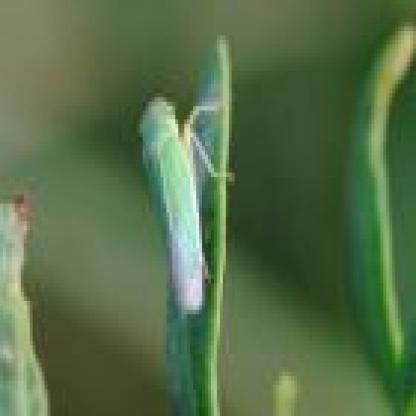Green-Leafhopper: (136, 92, 236, 316)
